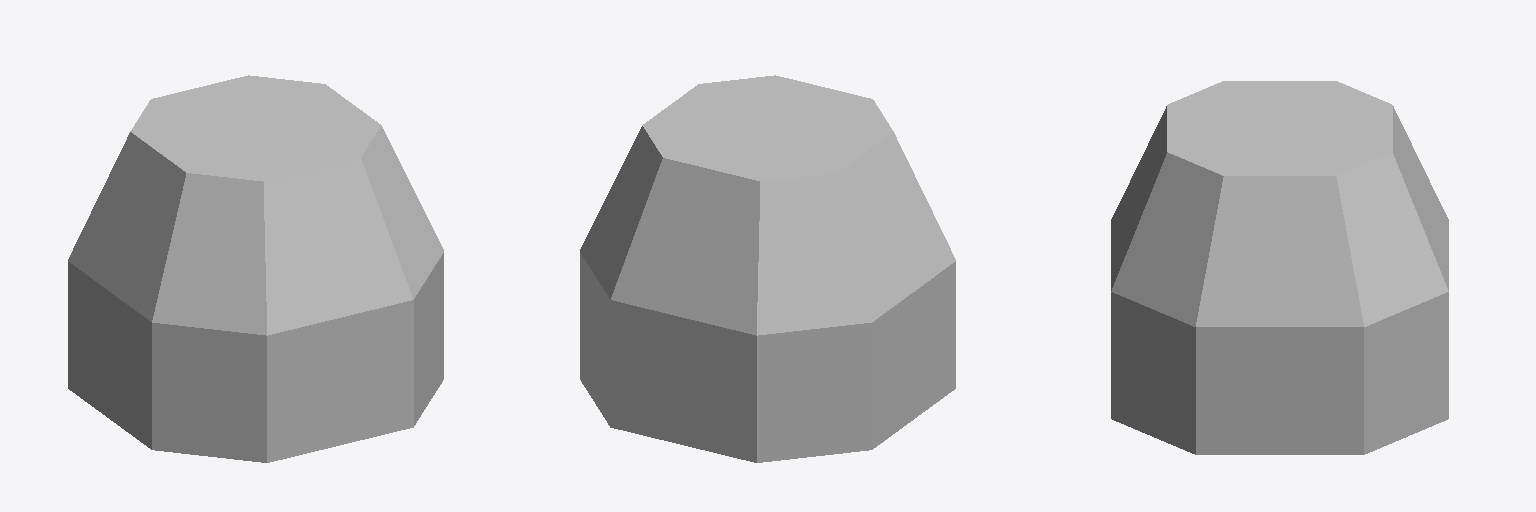
The model's file is support-color-single-bottom.obj.
The picture shows the model from 3 angles: view 1: azimuth 30°, elevation 25°; view 2: azimuth 150°, elevation 25°; view 3: azimuth 270°, elevation 25°; orthographic projection.
Visible parts, largest first — view 1: support-color-single-bottom; view 2: support-color-single-bottom; view 3: support-color-single-bottom.
Boxes of the visible parts, x1,y1,x2,y2 form: support-color-single-bottom: [68, 75, 443, 462]; support-color-single-bottom: [580, 75, 955, 462]; support-color-single-bottom: [1111, 81, 1448, 454].
Size of the model in its own units: 0.6 by 0.5 by 0.6.